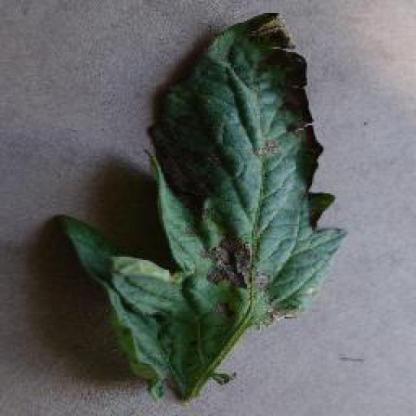Tomato_Blight: (61, 12, 346, 398)
